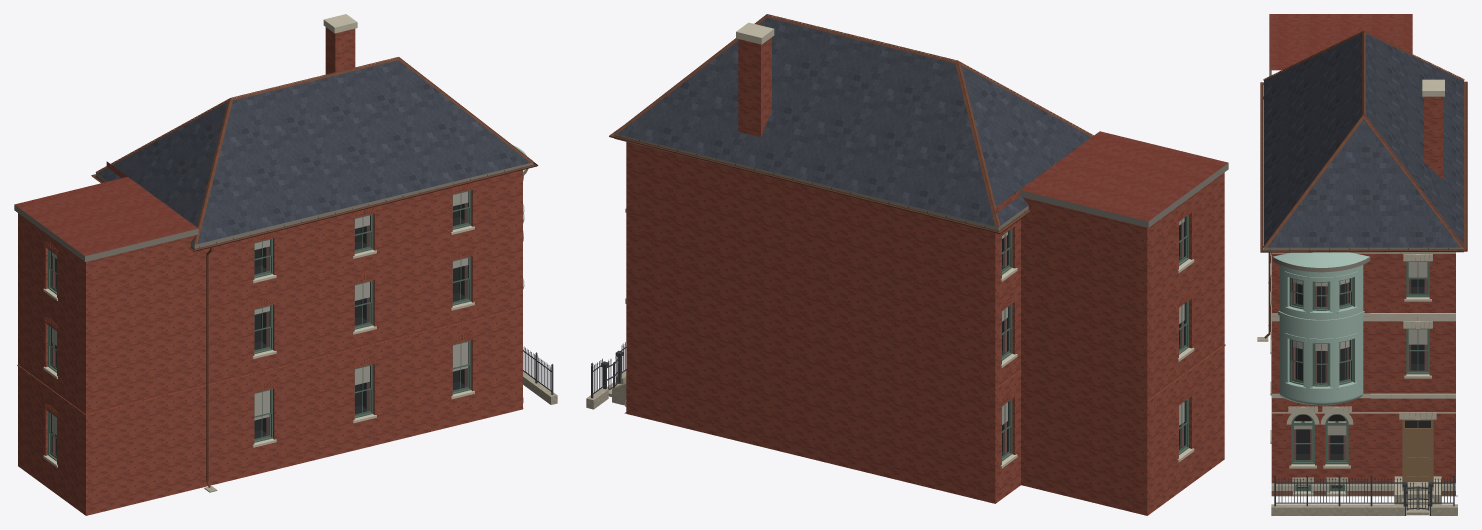
Rendered from house_217_e20th__as_mapped_1904.glb.
3 views of the same model, side by side, from view 1: azimuth 30°, elevation 25°; view 2: azimuth 150°, elevation 25°; view 3: azimuth 270°, elevation 25° (orthographic). The views are drawn at different scales.
Visible parts, largest first — view 1: house_217_e20th__as_mapped_1904; view 2: house_217_e20th__as_mapped_1904; view 3: house_217_e20th__as_mapped_1904.
Part boxes in pixels (bbox=[...]): house_217_e20th__as_mapped_1904: bbox=[14, 14, 557, 515]; house_217_e20th__as_mapped_1904: bbox=[586, 14, 1228, 515]; house_217_e20th__as_mapped_1904: bbox=[1257, 14, 1467, 515].
Bounding box in the file's own units: 21.3 × 15.38 × 8.06.
Materials: 23 (12 with a texture image).
